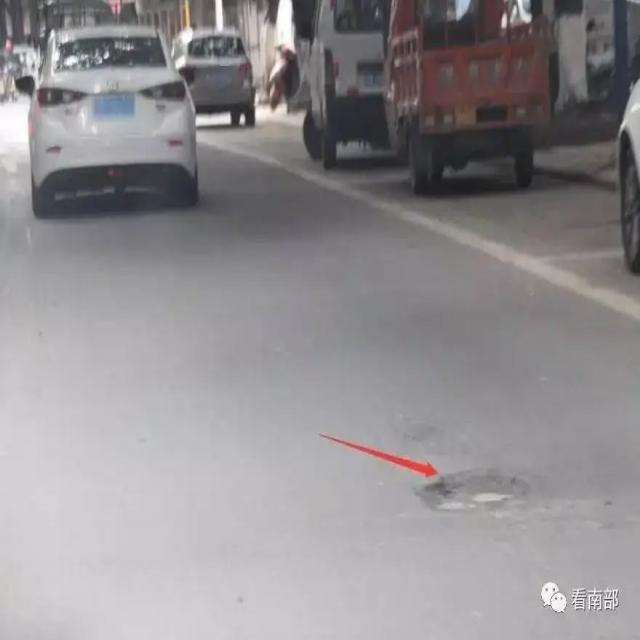Buraco: (411, 464, 539, 516)
